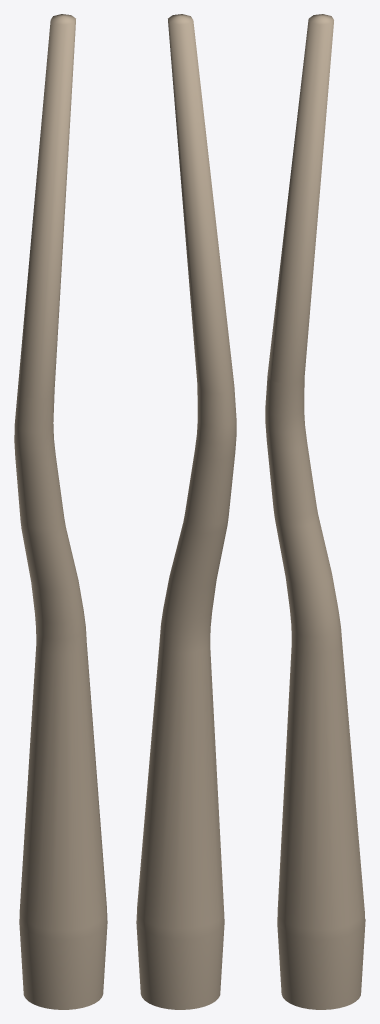
Rendered from palm_trunk.fbx.
3 renders of one model, left to right at view 1: azimuth 30°, elevation 25°; view 2: azimuth 150°, elevation 25°; view 3: azimuth 330°, elevation 25°, orthographic.
Visible parts, largest first — view 1: Cylinder.001; view 2: Cylinder.001; view 3: Cylinder.001.
Boxes of the visible parts, x1,y1,x2,y2 form: Cylinder.001: (14,14,107,1009); Cylinder.001: (136,14,236,1009); Cylinder.001: (265,14,365,1009).
Bounding box in the file's own units: 9.09 × 96.42 × 7.93.
